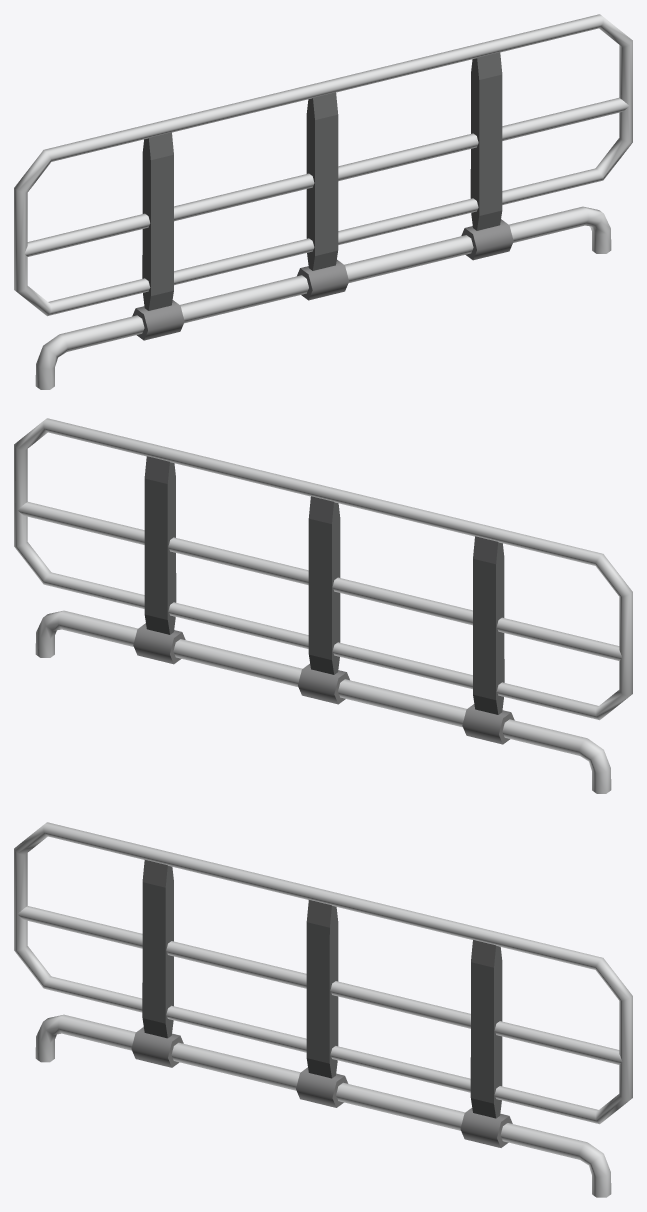
Rendered from Fence_type_A_003.glb.
The picture shows the model from 3 angles, top to bottom: view 1: azimuth 30°, elevation 25°; view 2: azimuth 150°, elevation 25°; view 3: azimuth 330°, elevation 25°; orthographic projection.
Visible parts, largest first — view 1: Fence_type_A_003; view 2: Fence_type_A_003; view 3: Fence_type_A_003.
Part boxes in pixels (x1,y1,x2,y2): Fence_type_A_003: [14, 14, 632, 389]; Fence_type_A_003: [14, 418, 632, 793]; Fence_type_A_003: [14, 822, 632, 1197].
Bounding box in the file's own units: 3.9 × 1.42 × 0.1839.
Materials: 1 (1 with a texture image).
